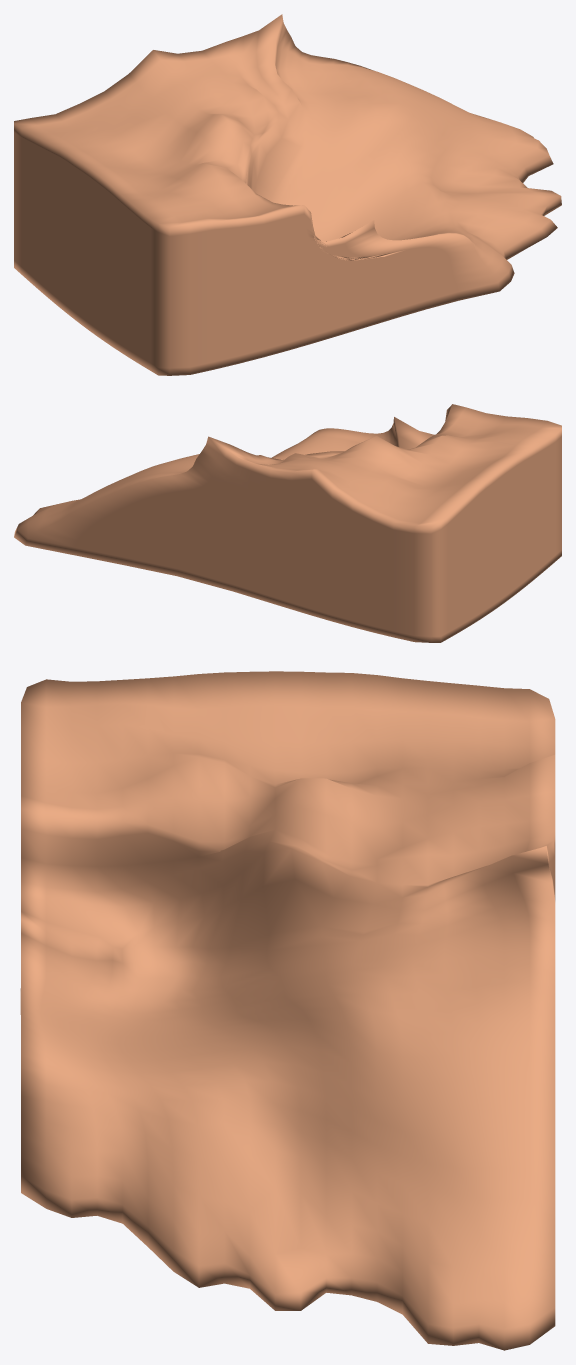
File: vainilla_medio.fbx
3 views of the same model, one above another, from view 1: azimuth 30°, elevation 25°; view 2: azimuth 150°, elevation 25°; view 3: azimuth 270°, elevation 25° (orthographic). The views are drawn at different scales.
Parts seen in each view (by area): view 1: Vainilla_medio; view 2: Vainilla_medio; view 3: Vainilla_medio.
Part boxes in pixels (x1,y1,x2,y2): Vainilla_medio: (14,14,561,375); Vainilla_medio: (14,404,561,642); Vainilla_medio: (20,671,555,1350).
Size of the model in its own units: 353 by 126 by 189.
